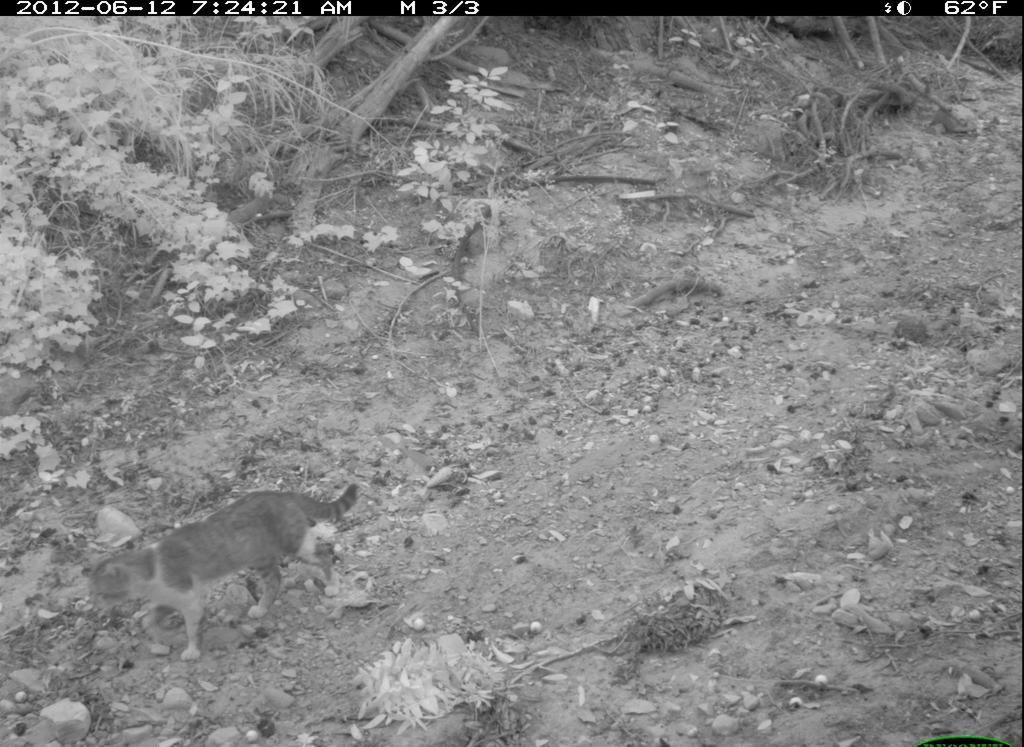cat: (79, 477, 370, 660)
